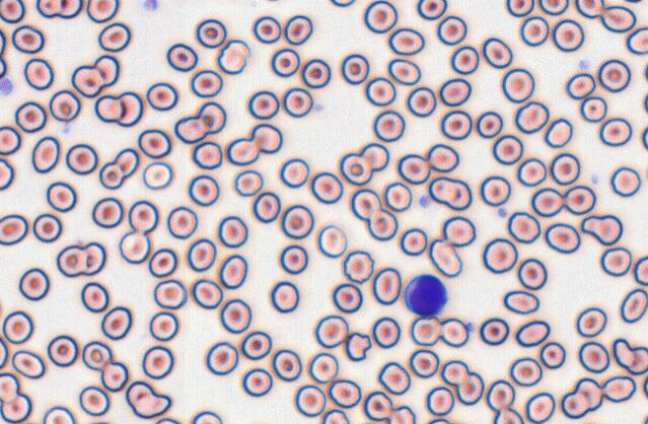LYM: (404, 273, 449, 317)
PLT: (0, 76, 14, 97), (140, 0, 159, 12), (418, 193, 431, 208), (578, 59, 592, 71), (497, 207, 509, 218)
RBC: (56, 241, 106, 277), (428, 176, 472, 210), (482, 237, 518, 274), (428, 238, 462, 277), (280, 203, 314, 239), (216, 39, 250, 74), (501, 67, 534, 103), (314, 314, 348, 348), (514, 100, 549, 133), (70, 64, 104, 97), (118, 230, 151, 264), (339, 152, 373, 185), (141, 345, 174, 379), (205, 341, 238, 375), (363, 0, 397, 33), (598, 58, 631, 92), (506, 211, 541, 243), (100, 305, 132, 340), (219, 298, 251, 333), (544, 222, 580, 253), (372, 267, 401, 305), (310, 171, 343, 204), (372, 109, 405, 142), (48, 89, 81, 122), (342, 249, 374, 283), (442, 215, 476, 247), (552, 18, 584, 52), (31, 136, 60, 173), (366, 208, 398, 241), (166, 206, 198, 239), (294, 384, 326, 417), (65, 143, 98, 175), (14, 101, 47, 133), (577, 341, 610, 373), (2, 310, 33, 344), (153, 278, 187, 309), (18, 267, 49, 301), (127, 199, 158, 233), (91, 196, 123, 228), (187, 174, 219, 206), (217, 215, 248, 248), (397, 153, 430, 184), (23, 57, 54, 90), (47, 334, 78, 367), (563, 184, 596, 215), (271, 348, 302, 381), (11, 349, 45, 379), (317, 224, 347, 258), (508, 356, 542, 386), (137, 128, 171, 158), (186, 238, 216, 272), (97, 22, 131, 52), (327, 378, 361, 408), (388, 27, 424, 55), (0, 392, 32, 423), (350, 188, 381, 220), (78, 385, 110, 416), (191, 278, 223, 309), (479, 175, 511, 206), (575, 306, 607, 337), (531, 187, 564, 217), (517, 257, 547, 290), (550, 152, 580, 185), (145, 81, 178, 111), (574, 377, 603, 411), (189, 69, 223, 98), (515, 319, 550, 347), (219, 254, 247, 289), (619, 288, 647, 323), (116, 91, 143, 127), (600, 5, 636, 32), (81, 340, 112, 371), (410, 315, 441, 346), (492, 134, 523, 165), (331, 282, 362, 313), (46, 181, 77, 212), (610, 166, 641, 197), (282, 86, 313, 117), (196, 101, 226, 133), (485, 379, 515, 411), (250, 123, 282, 153), (525, 391, 555, 423), (308, 351, 338, 383), (240, 330, 272, 360), (364, 76, 396, 106), (440, 110, 472, 140), (600, 246, 632, 276), (226, 137, 259, 166), (11, 24, 44, 53), (270, 280, 299, 313), (426, 143, 459, 172), (599, 117, 632, 146), (456, 371, 484, 405), (601, 375, 636, 402), (519, 15, 549, 46), (279, 157, 309, 188), (363, 390, 393, 421), (482, 37, 512, 68), (242, 367, 273, 397), (436, 15, 467, 45), (195, 18, 226, 48), (406, 86, 436, 117), (252, 191, 281, 223), (166, 42, 198, 71), (439, 77, 471, 106), (247, 90, 279, 119), (387, 58, 421, 85), (439, 317, 469, 347), (409, 348, 439, 378), (503, 289, 539, 314), (32, 212, 62, 242), (149, 311, 179, 341), (270, 47, 300, 77), (301, 58, 331, 88), (425, 385, 454, 416), (544, 117, 573, 148), (142, 161, 173, 190), (80, 281, 109, 312), (383, 181, 412, 212), (191, 140, 222, 169), (283, 14, 312, 45), (340, 53, 369, 84), (100, 360, 128, 392), (0, 213, 28, 245), (372, 316, 400, 348), (596, 214, 624, 246), (35, 0, 82, 19), (560, 390, 590, 419), (359, 142, 389, 171), (148, 247, 177, 277), (279, 244, 308, 274), (93, 54, 119, 87), (517, 157, 546, 186), (252, 15, 281, 44), (450, 45, 479, 74), (566, 72, 596, 100), (479, 317, 509, 345), (94, 94, 123, 122), (399, 227, 427, 256), (233, 169, 263, 196), (113, 147, 139, 178), (538, 341, 566, 369), (440, 359, 469, 386), (86, 0, 119, 23), (476, 110, 503, 138), (98, 161, 124, 189), (579, 96, 607, 122), (126, 382, 152, 407), (0, 125, 21, 155), (416, 0, 447, 20), (42, 405, 76, 423), (626, 26, 647, 54), (0, 0, 25, 23), (0, 372, 19, 402), (575, 0, 604, 19), (629, 346, 648, 375), (492, 407, 524, 423), (389, 405, 416, 423), (506, 0, 534, 17), (538, 0, 569, 15), (0, 157, 14, 190), (320, 408, 349, 423), (633, 255, 647, 285), (191, 410, 222, 423), (0, 337, 8, 369), (329, 0, 355, 7), (0, 29, 6, 55), (154, 417, 180, 423), (0, 56, 7, 78), (642, 374, 648, 399), (641, 125, 647, 150), (427, 417, 450, 423), (643, 92, 648, 113), (643, 62, 648, 81), (623, 0, 643, 3), (642, 413, 647, 424)
Schistocyte: (378, 362, 411, 396), (175, 114, 206, 143), (345, 332, 372, 361), (136, 397, 171, 419), (614, 338, 636, 367), (582, 216, 602, 234)
